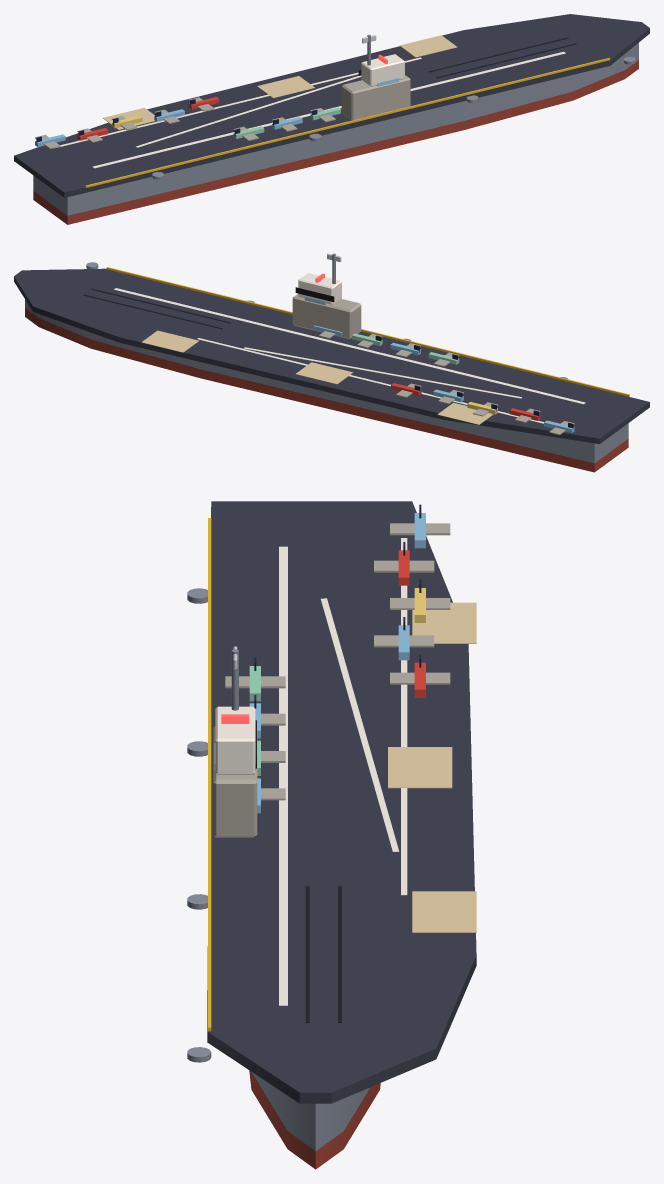
Rendered from aircraft_carrier.glb.
The picture shows the model from 3 angles, top to bottom: view 1: azimuth 30°, elevation 25°; view 2: azimuth 150°, elevation 25°; view 3: azimuth 270°, elevation 25°; orthographic projection. The views are drawn at different scales.
Visible parts, largest first — view 1: aircraft_carrier; view 2: aircraft_carrier; view 3: aircraft_carrier.
Part boxes in pixels (x1,y1,x2,y2): aircraft_carrier: (14, 14, 649, 224); aircraft_carrier: (14, 253, 649, 472); aircraft_carrier: (187, 501, 476, 1169).
Bounding box in the file's own units: 348 × 65 × 71.91.
1 material, 1 textured.
